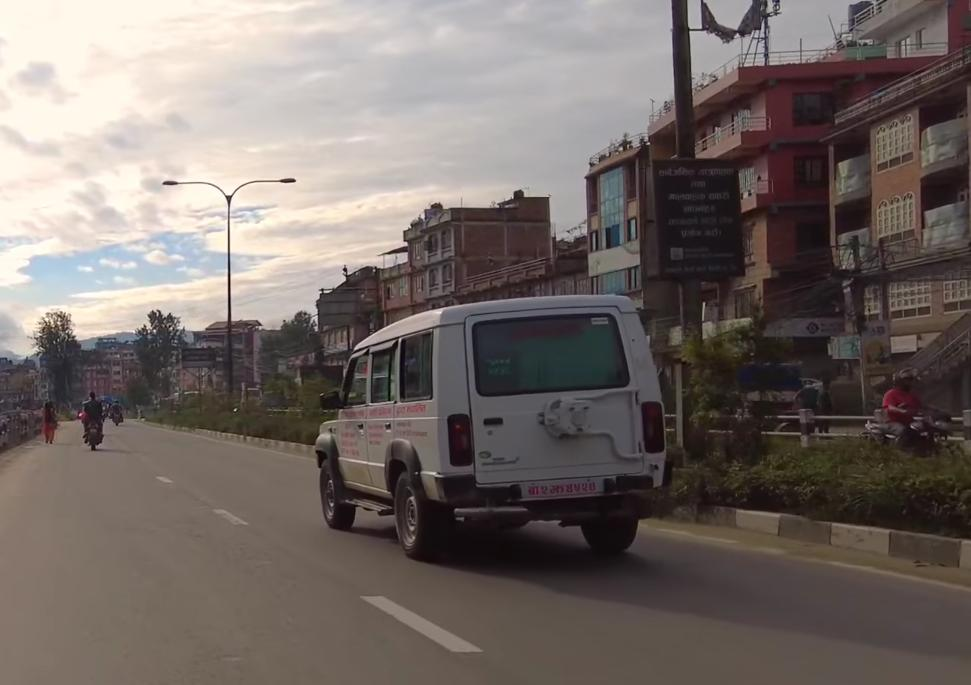ambulance: (305, 287, 676, 554)
